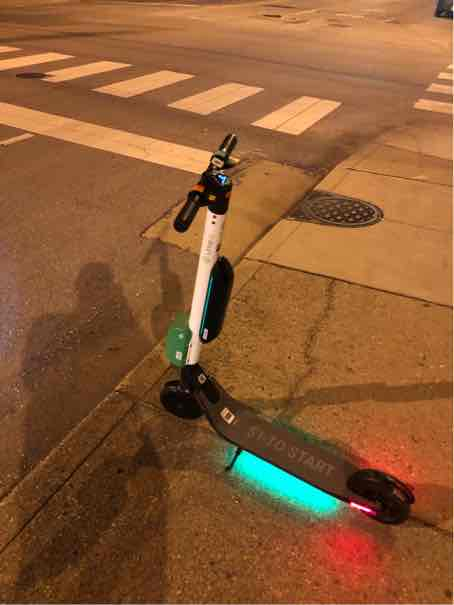scooter: (144, 120, 428, 525)
